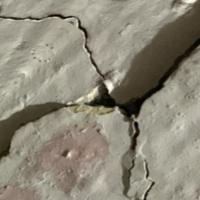crack: (0, 9, 195, 191)
